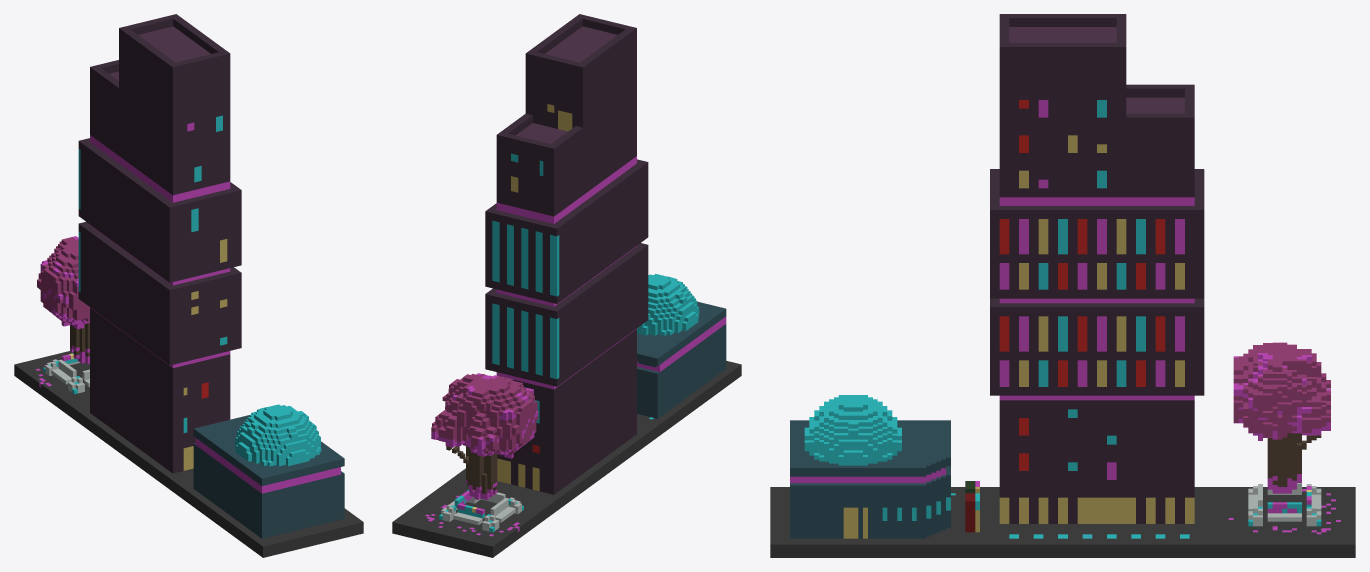
File: SM_Environment_Street2.fbx
3 renders of one model, left to right at view 1: azimuth 30°, elevation 25°; view 2: azimuth 150°, elevation 25°; view 3: azimuth 270°, elevation 25°, orthographic. The views are drawn at different scales.
Visible parts, largest first — view 1: SM_Environment_Street2; view 2: SM_Environment_Street2; view 3: SM_Environment_Street2.
Boxes of the visible parts, <box> form: SM_Environment_Street2: <box>14,14,363,557</box>; SM_Environment_Street2: <box>392,14,741,557</box>; SM_Environment_Street2: <box>770,14,1355,557</box>.
Size of the model in its own units: 560 by 2220 by 2400.
Materials: 5 (1 with a texture image).
